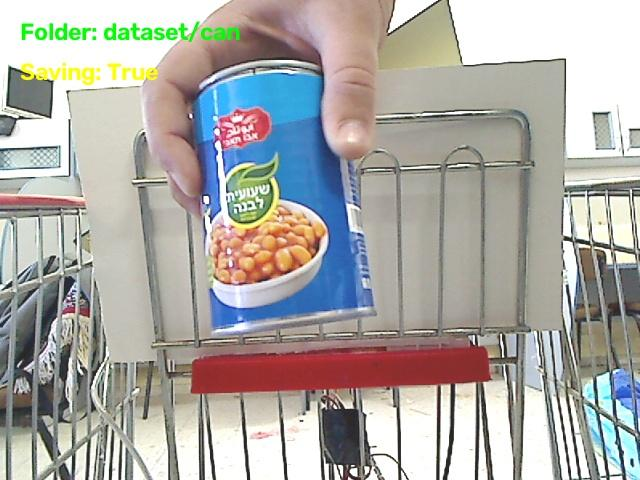can: (194, 60, 374, 334)
